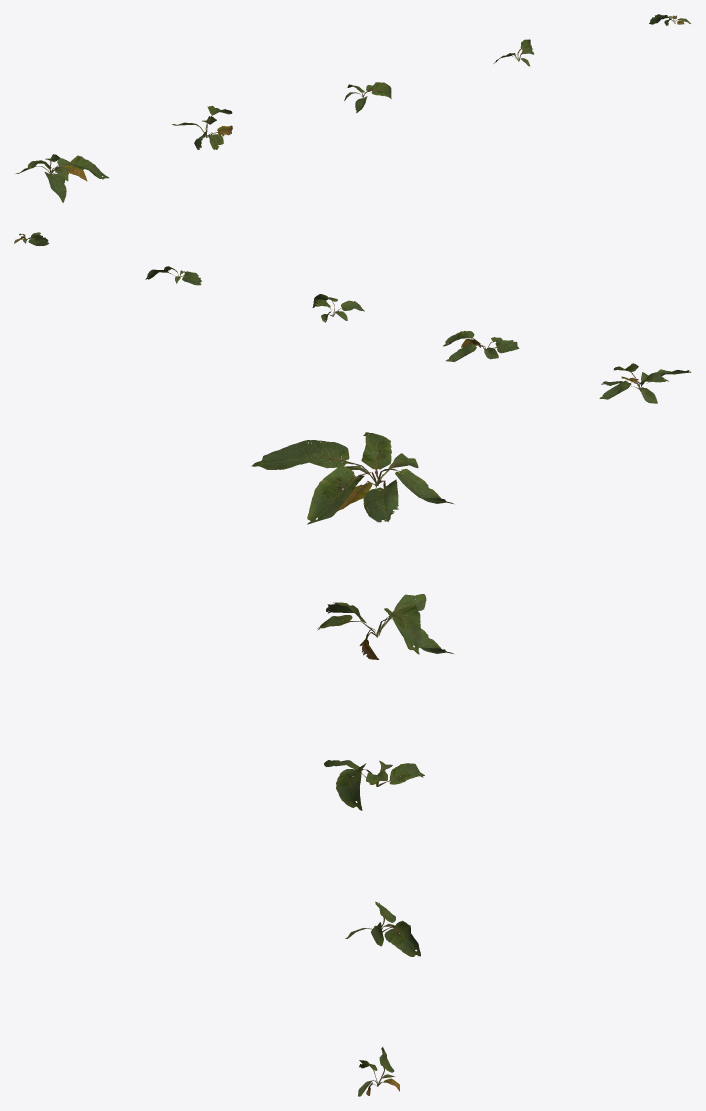
Rendered from weed.glb.
3 views of the same model, one above another, from view 1: azimuth 30°, elevation 25°; view 2: azimuth 150°, elevation 25°; view 3: azimuth 270°, elevation 25° (orthographic). The views are drawn at different scales.
Parts seen in each view (by area): view 1: weed_plant_02_a_LOD0, weed_plant_02_b_LOD0, weed_plant_02_c_LOD0; view 2: weed_plant_02_a_LOD0, weed_plant_02_b_LOD0, weed_plant_02_c_LOD0, weed_plant_02_d_LOD0; view 3: weed_plant_02_a_LOD0, weed_plant_02_b_LOD0, weed_plant_02_c_LOD0, weed_plant_02_d_LOD0.
Boxes of the visible parts, bbox=[...] form: weed_plant_02_a_LOD0: bbox=[15, 154, 108, 202]; weed_plant_02_b_LOD0: bbox=[172, 106, 232, 149]; weed_plant_02_c_LOD0: bbox=[344, 82, 391, 113]; weed_plant_02_a_LOD0: bbox=[599, 363, 691, 403]; weed_plant_02_b_LOD0: bbox=[443, 331, 519, 361]; weed_plant_02_c_LOD0: bbox=[312, 294, 364, 322]; weed_plant_02_d_LOD0: bbox=[145, 266, 201, 285]; weed_plant_02_a_LOD0: bbox=[251, 432, 454, 524]; weed_plant_02_b_LOD0: bbox=[317, 594, 454, 659]; weed_plant_02_c_LOD0: bbox=[324, 760, 424, 810]; weed_plant_02_d_LOD0: bbox=[345, 901, 420, 956].
Bounding box in the file's own units: 2.13 × 0.0744 × 0.2909.
Materials: 1 (1 with a texture image).
